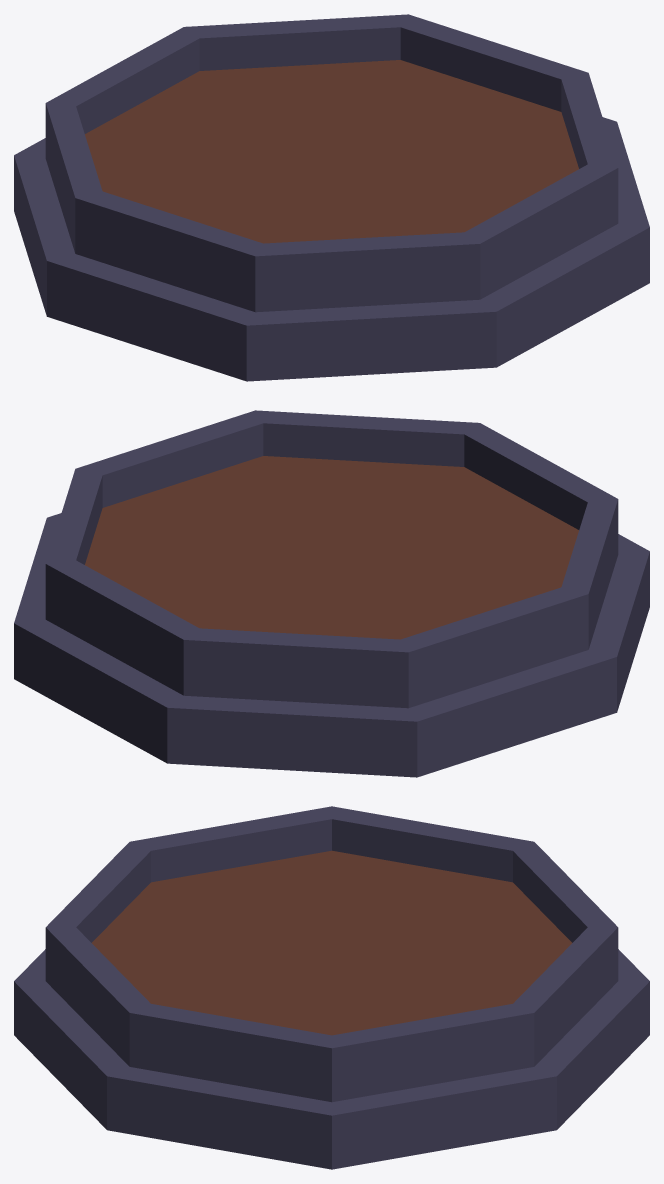
File: Tori_Puu_JuuriKoriste.fbx
3 renders of one model, top to bottom at view 1: azimuth 30°, elevation 25°; view 2: azimuth 150°, elevation 25°; view 3: azimuth 270°, elevation 25°, orthographic. The views are drawn at different scales.
Parts seen in each view (by area): view 1: Cube; view 2: Cube; view 3: Cube.
Part boxes in pixels (x1,y1,x2,y2): Cube: [14, 14, 649, 381]; Cube: [14, 410, 649, 777]; Cube: [14, 806, 649, 1169].
Size of the model in its own units: 78.61 by 14.72 by 78.61.
